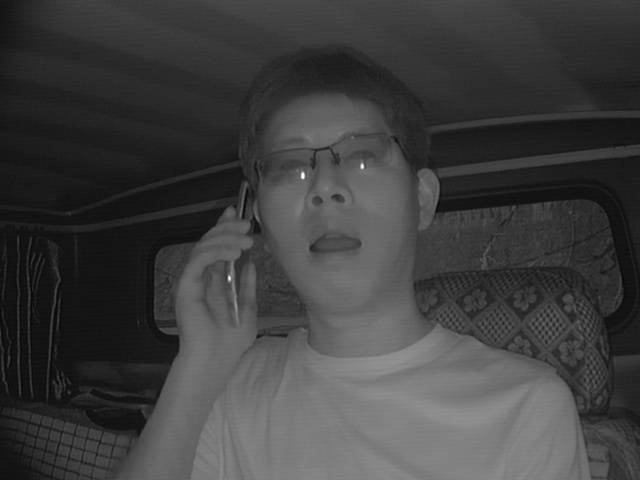hand: (169, 203, 264, 348)
